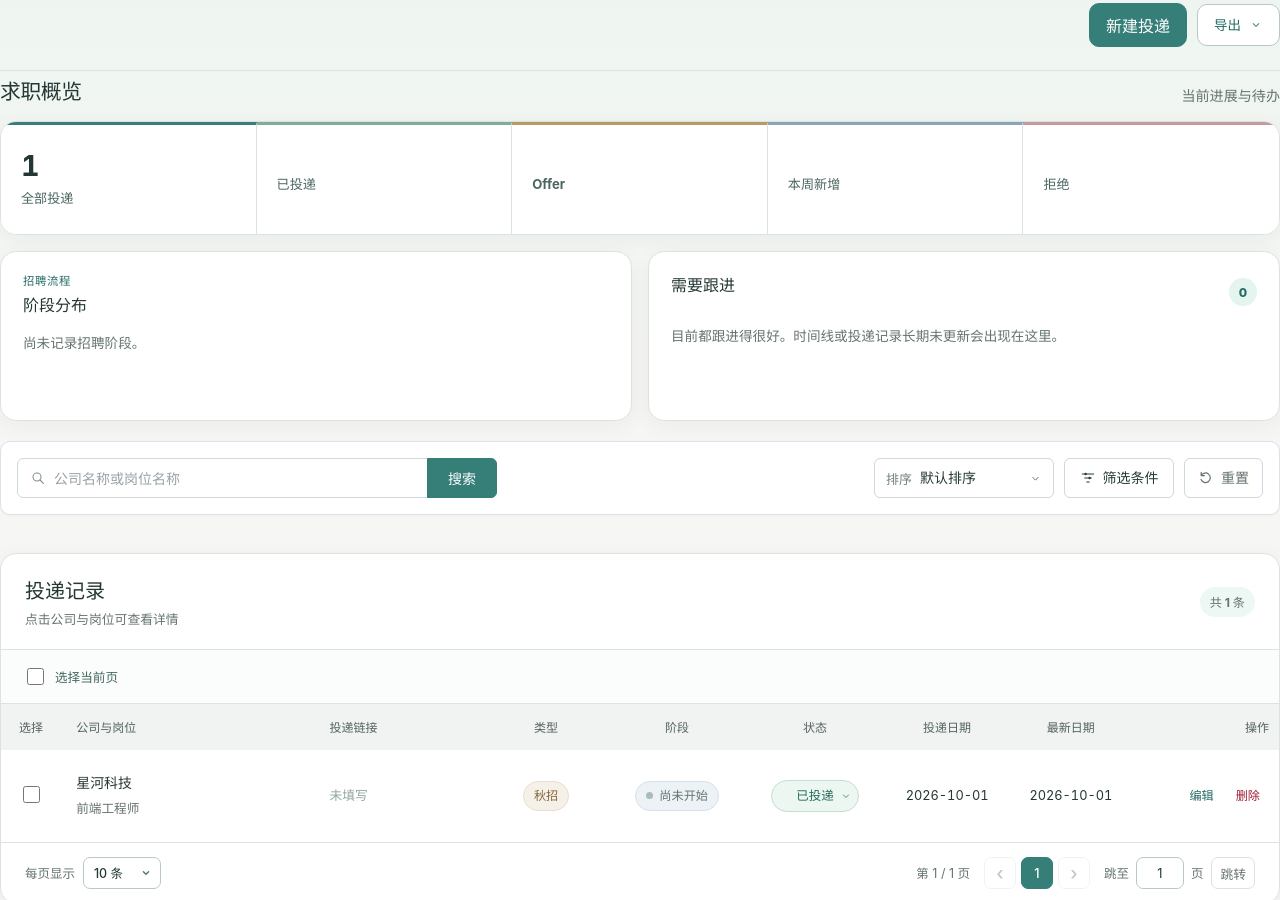
it: keeps the application selection after a failed bulk delete
Step 1. Click the checkbox named "选择 星河科技 前端工程师" → (32, 795), box [23, 786, 40, 803]
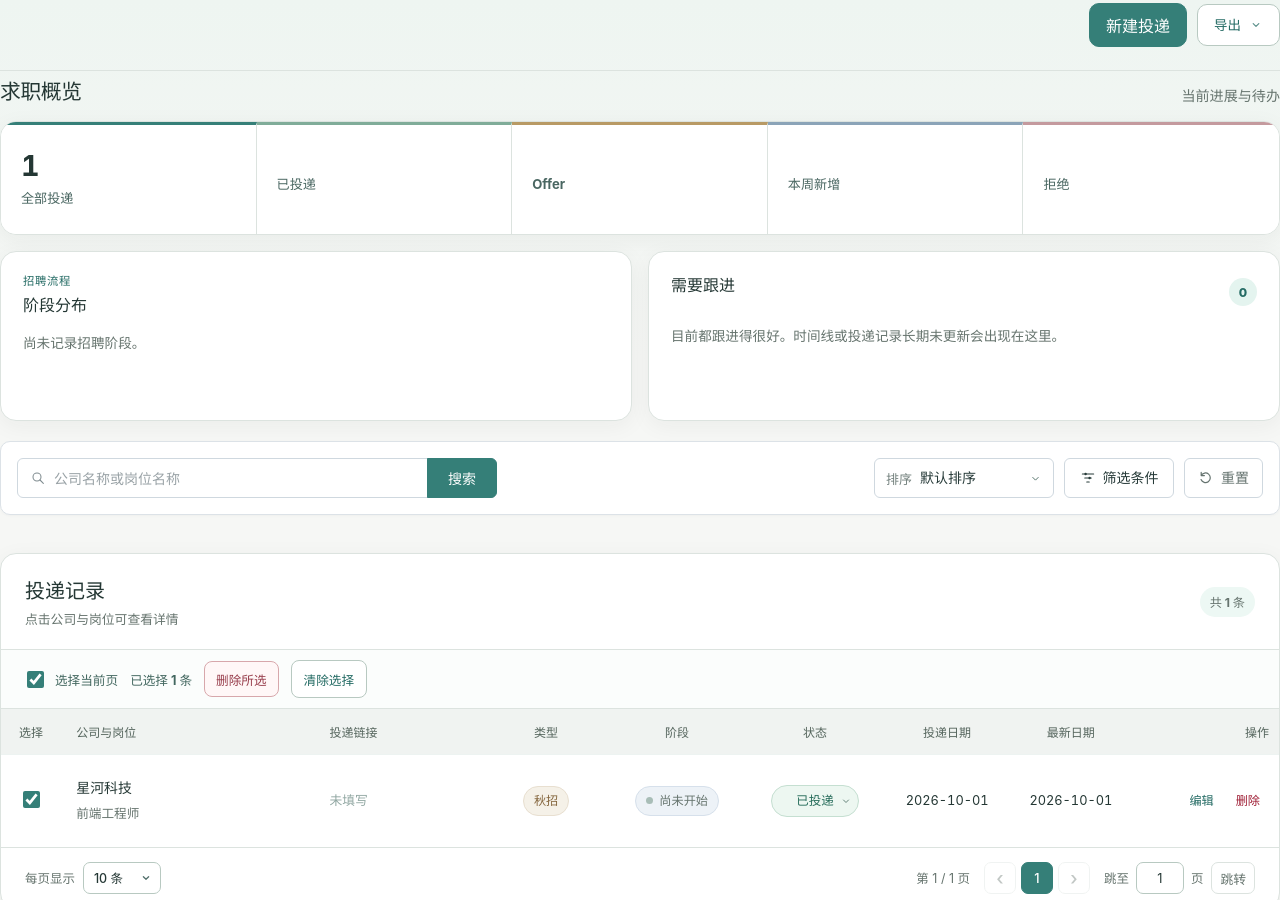
Step 2. Click the button "删除所选" → (241, 679), box [204, 661, 279, 697]
(page scrolled)
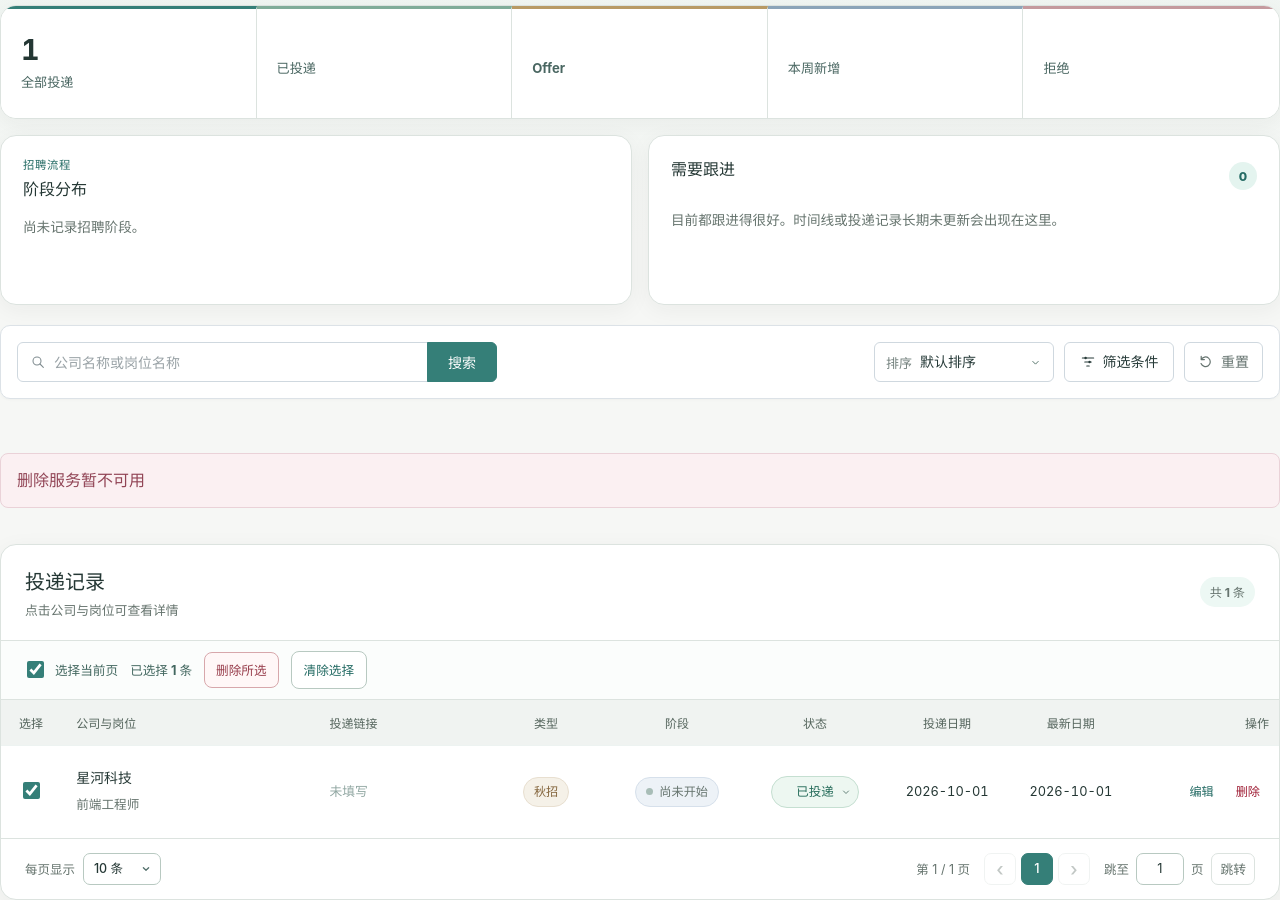
Expected: the checkbox named "选择 星河科技 前端工程师" is checked, [23, 782, 40, 799]
Expected: the message reads "删除服务暂不可用", [17, 470, 145, 490]
